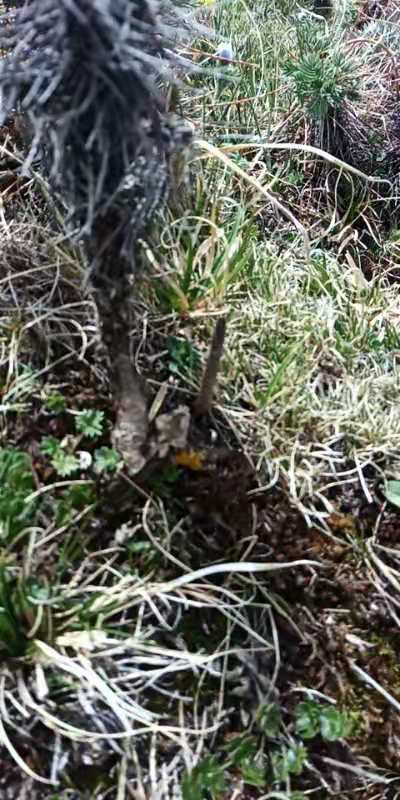cpf: (190, 315, 230, 420)
